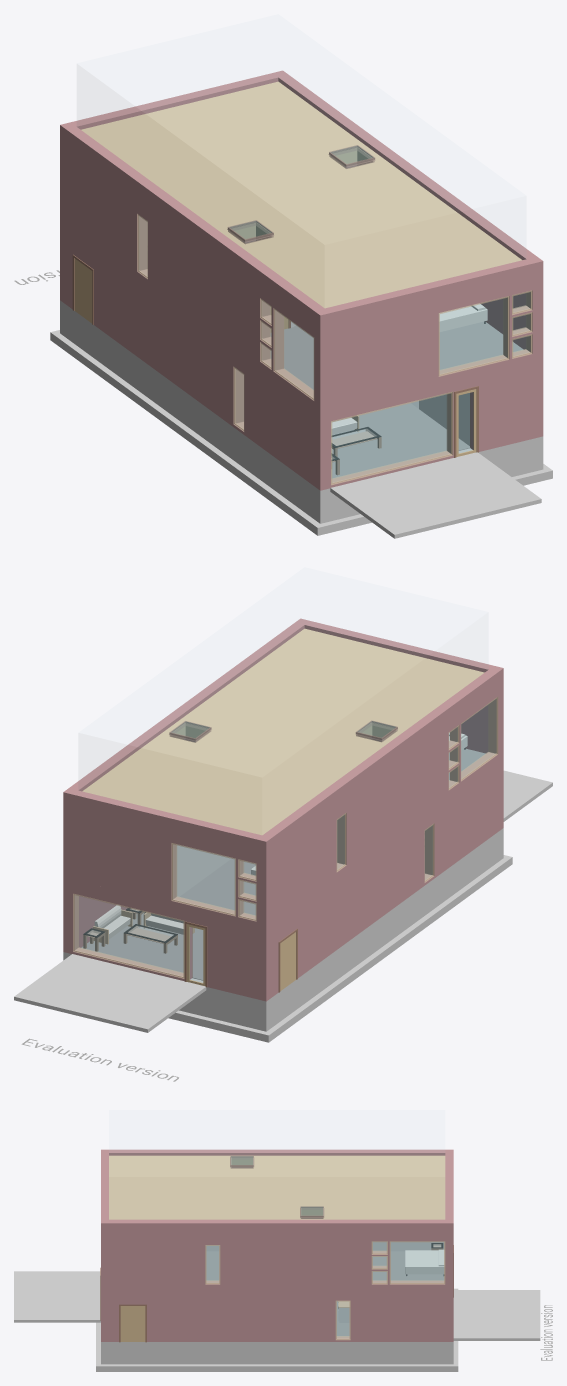
3 views of the same model, one above another, from view 1: azimuth 30°, elevation 25°; view 2: azimuth 150°, elevation 25°; view 3: azimuth 270°, elevation 25° (orthographic). The views are drawn at different scales.
Parts seen in each view (by area): view 1: 0jf0rYHfX3RAB3bSQRjmxl, 2O2Fr$t4X7Zf8NOew3FNhv, 2O2Fr$t4X7Zf8NOew3FLPP, 2O2Fr$t4X7Zf8NOew3FLOH, 1CZILmCaHETO8tf3SgGEXu, 2O2Fr$t4X7Zf8NOew3FNr2, 2O2Fr$t4X7Zf8NOew3FKE5, 0jf0rYHfX3RAB3bSIRjmr1, 2OBrcmyk58NupXoVOHUtxr, 0jf0rYHfX3RAB3bSIRjmoa, 0jf0rYHfX3RAB3bSIRjmpw, 0kF45Qs8L9PAM9kmb1lT5t (+17 smaller); view 2: 0jf0rYHfX3RAB3bSQRjmxl, 2O2Fr$t4X7Zf8NOew3FNhv, 2O2Fr$t4X7Zf8NOew3FLPP, 2O2Fr$t4X7Zf8NOew3FLQD, 2O2Fr$t4X7Zf8NOew3FNtn, 1CZILmCaHETO8tf3SgGEWh, 2O2Fr$t4X7Zf8NOew3FKE5, 0jf0rYHfX3RAB3bSIRjmr1, 0jf0rYHfX3RAB3bSIRjmmy, 0kF45Qs8L9PAM9kmb1lT5t, 0jf0rYHfX3RAB3bSIRjmpw, 2OBrcmyk58NupXoVOHUtgP (+15 smaller); view 3: 0jf0rYHfX3RAB3bSQRjmxl, 2O2Fr$t4X7Zf8NOew3FNqI, 2O2Fr$t4X7Zf8NOew3FLR9, 2O2Fr$t4X7Zf8NOew3FK9N, 0jf0rYHfX3RAB3bSIRjmpw, 1CZILmCaHETO8tf3SgGEXu, 1CZILmCaHETO8tf3SgGEWh, 0kF45Qs8L9PAM9kmb1lT5d, 0jf0rYHfX3RAB3bSIRjmr1, 2OBrcmyk58NupXoVOHUtDX, 1hOSvn6df7F8_7GcBWlRGQ, 2OBrcmyk58NupXoVOHUtI8 (+7 smaller).
Boxes of the visible parts, x1,y1,x2,y2 form: 0jf0rYHfX3RAB3bSQRjmxl: (81, 81, 521, 308); 2O2Fr$t4X7Zf8NOew3FNhv: (66, 222, 314, 485); 2O2Fr$t4X7Zf8NOew3FLPP: (14, 141, 320, 407); 2O2Fr$t4X7Zf8NOew3FLOH: (320, 277, 543, 408); 1CZILmCaHETO8tf3SgGEXu: (330, 452, 541, 538); 2O2Fr$t4X7Zf8NOew3FNr2: (314, 357, 532, 490); 2O2Fr$t4X7Zf8NOew3FKE5: (66, 305, 314, 518); 0jf0rYHfX3RAB3bSIRjmr1: (66, 127, 324, 326); 2OBrcmyk58NupXoVOHUtxr: (331, 400, 470, 478); 0jf0rYHfX3RAB3bSIRjmoa: (314, 259, 532, 331); 0jf0rYHfX3RAB3bSIRjmpw: (278, 75, 543, 279); 0kF45Qs8L9PAM9kmb1lT5t: (50, 330, 310, 525); 0jf0rYHfX3RAB3bSQRjmxl: (82, 628, 484, 835); 2O2Fr$t4X7Zf8NOew3FNhv: (272, 757, 498, 996); 2O2Fr$t4X7Zf8NOew3FLPP: (21, 683, 503, 1081); 2O2Fr$t4X7Zf8NOew3FLQD: (63, 807, 266, 926); 2O2Fr$t4X7Zf8NOew3FNtn: (63, 877, 271, 1001); 1CZILmCaHETO8tf3SgGEWh: (14, 954, 206, 1032); 2O2Fr$t4X7Zf8NOew3FKE5: (272, 832, 498, 1027); 0jf0rYHfX3RAB3bSIRjmr1: (262, 670, 498, 851); 0jf0rYHfX3RAB3bSIRjmmy: (63, 788, 271, 856); 0kF45Qs8L9PAM9kmb1lT5t: (248, 864, 500, 1042); 0jf0rYHfX3RAB3bSIRjmpw: (69, 618, 309, 791); 2OBrcmyk58NupXoVOHUtgP: (81, 913, 203, 980); 0jf0rYHfX3RAB3bSQRjmxl: (109, 1155, 445, 1219); 2O2Fr$t4X7Zf8NOew3FNqI: (101, 1286, 445, 1341); 2O2Fr$t4X7Zf8NOew3FLR9: (101, 1234, 453, 1286); 2O2Fr$t4X7Zf8NOew3FK9N: (101, 1342, 445, 1364); 0jf0rYHfX3RAB3bSIRjmpw: (101, 1219, 445, 1234); 1CZILmCaHETO8tf3SgGEXu: (14, 1271, 100, 1322); 1CZILmCaHETO8tf3SgGEWh: (453, 1290, 540, 1340); 0kF45Qs8L9PAM9kmb1lT5d: (96, 1359, 458, 1371); 0jf0rYHfX3RAB3bSIRjmr1: (109, 1149, 445, 1155); 2OBrcmyk58NupXoVOHUtDX: (372, 1251, 444, 1280); 1hOSvn6df7F8_7GcBWlRGQ: (119, 1304, 146, 1342); 2OBrcmyk58NupXoVOHUtI8: (405, 1249, 444, 1275).
Size of the model in its own units: 9.28 by 10.55 by 27.2.
